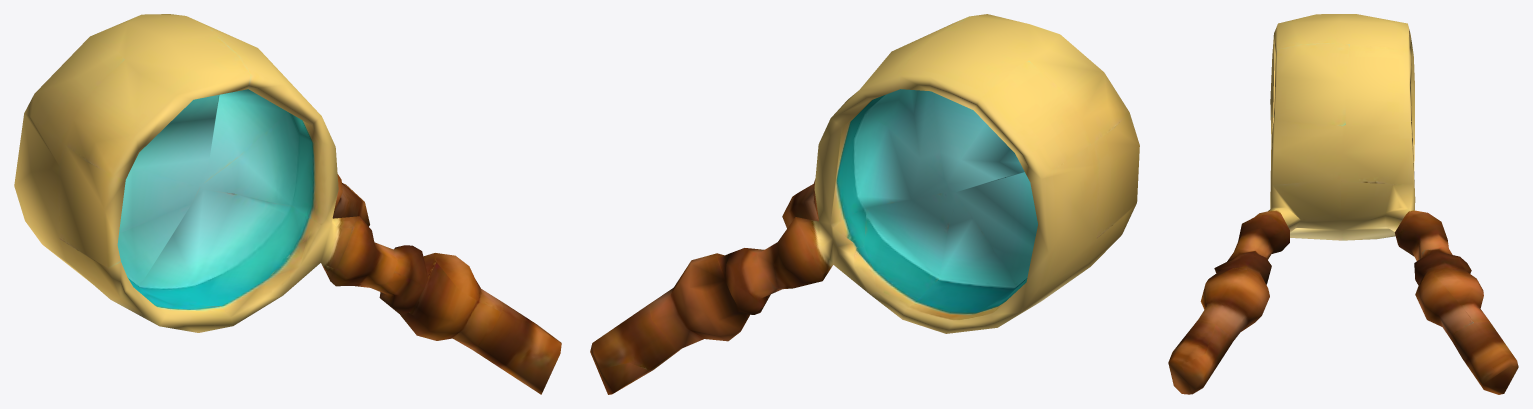
The model's file is magnifier.min.glb.
3 views of the same model, side by side, from view 1: azimuth 30°, elevation 25°; view 2: azimuth 150°, elevation 25°; view 3: azimuth 270°, elevation 25° (orthographic). The views are drawn at different scales.
Bounding box in the file's own units: 1.89 × 1.55 × 1.82.
Materials: 1 (1 with a texture image).
